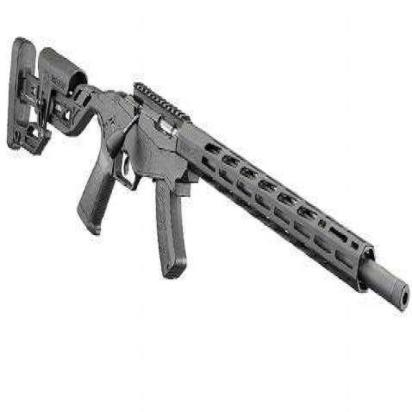Gun: (5, 31, 412, 339)
